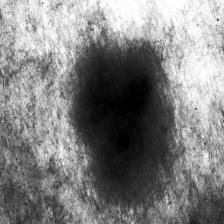Benign Marking or Mole: (76, 44, 163, 186)
